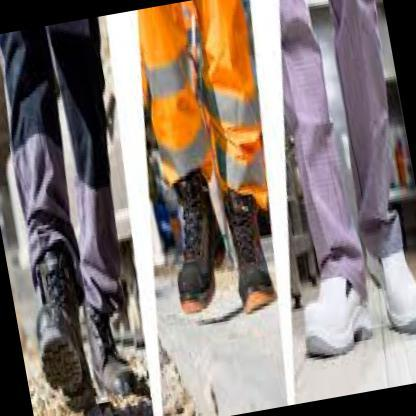safety-shoe: (18, 256, 95, 415), (216, 182, 284, 348), (167, 182, 237, 333)
